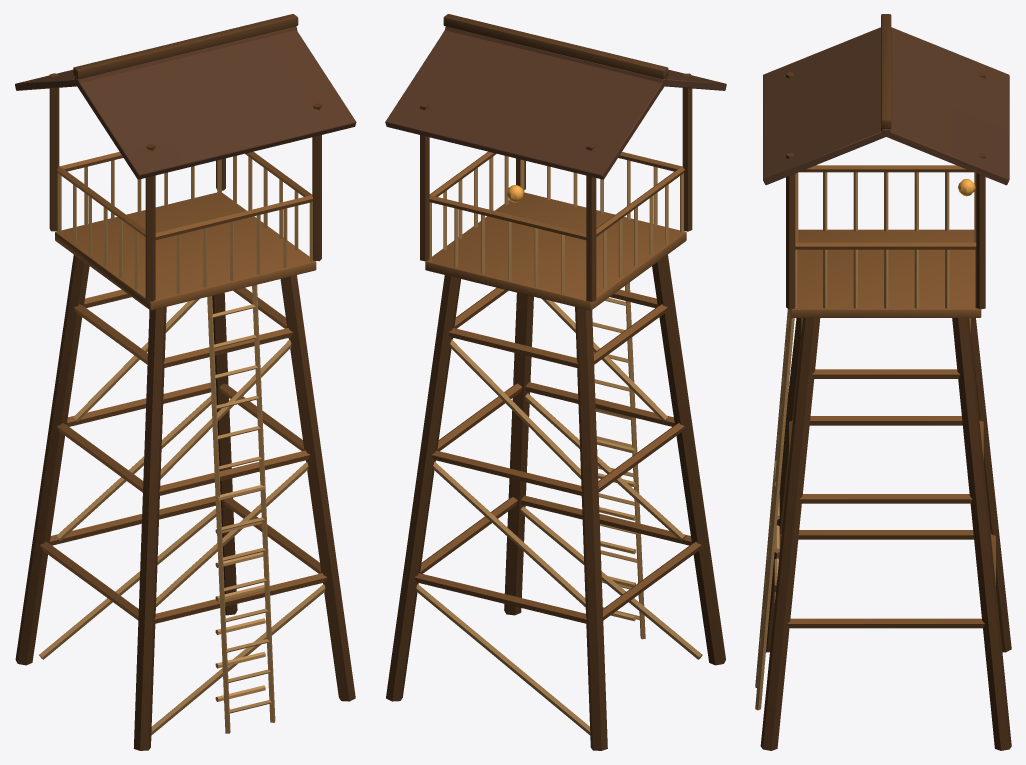
The model's file is watchtower.glb.
3 views of the same model, side by side, from view 1: azimuth 30°, elevation 25°; view 2: azimuth 150°, elevation 25°; view 3: azimuth 270°, elevation 25° (orthographic).
Visible parts, largest first — view 1: watchtower, watchtower_craft; view 2: watchtower, watchtower_craft; view 3: watchtower.
Part boxes in pixels (left/top/right/bottom): watchtower: left=15, top=14, right=356, bottom=750; watchtower_craft: left=215, top=485, right=265, bottom=701; watchtower: left=385, top=14, right=726, bottom=750; watchtower_craft: left=595, top=408, right=635, bottom=621; watchtower: left=755, top=14, right=1011, bottom=750.
Bounding box in the file's own units: 3.45 × 9.52 × 3.51.
